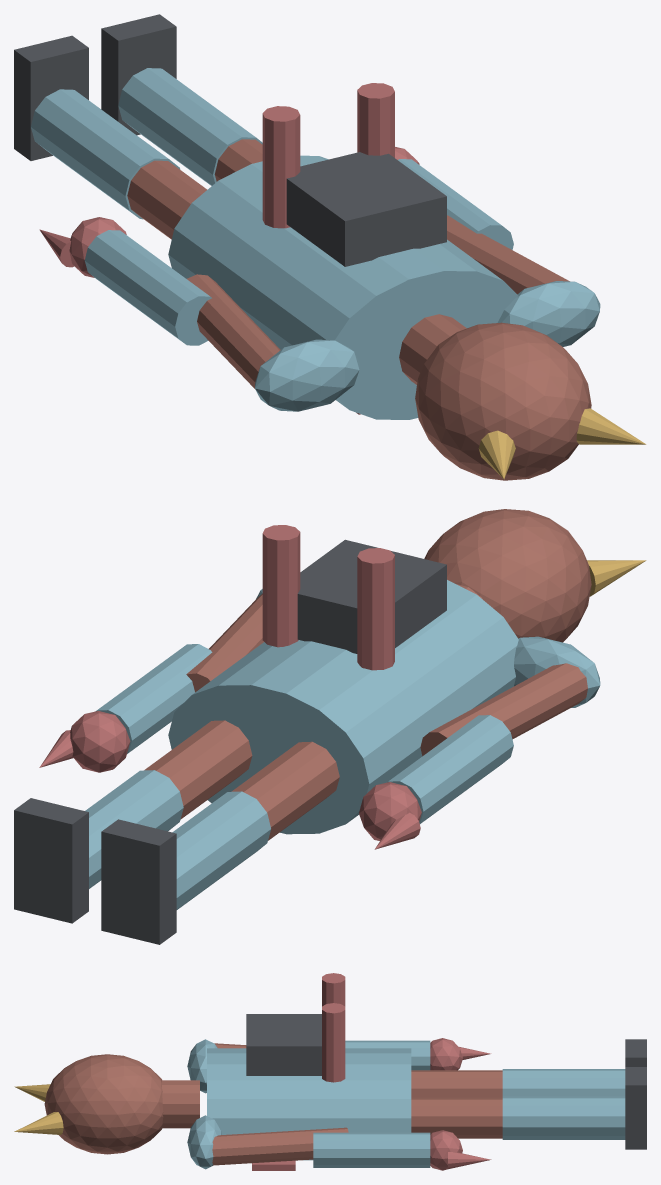
Rendered from SWN-013_corr_vantik.glb.
3 renders of one model, top to bottom at view 1: azimuth 30°, elevation 25°; view 2: azimuth 150°, elevation 25°; view 3: azimuth 270°, elevation 25°, orthographic. The views are drawn at different scales.
Parts seen in each view (by area): view 1: body_spine, head, back_thruster_pack, greave_-1, greave_1, forearm_gauntlet_-1, shoulder_plate_-1, boot_-1, boot_1, shoulder_plate_1, upper_arm_-1, aether_thruster_-1 (+9 smaller); view 2: body_spine, head, back_thruster_pack, boot_-1, boot_1, greave_-1, forearm_gauntlet_-1, thigh_1, thigh_-1, upper_arm_-1, forearm_gauntlet_1, greave_1 (+9 smaller); view 3: body_spine, head, greave_1, back_thruster_pack, forearm_gauntlet_1, thigh_1, greave_-1, upper_arm_1, thigh_-1, aether_thruster_1, boot_1, neck (+11 smaller).
Part boxes in pixels (x1,y1,x2,y2): body_spine: [168, 155, 518, 419]; head: [415, 322, 591, 480]; back_thruster_pack: [286, 152, 446, 266]; greave_-1: [31, 89, 180, 219]; greave_1: [118, 68, 262, 185]; forearm_gauntlet_-1: [84, 230, 211, 345]; shoulder_plate_-1: [255, 339, 359, 411]; boot_-1: [14, 35, 88, 160]; boot_1: [101, 14, 176, 135]; shoulder_plate_1: [497, 281, 600, 346]; upper_arm_-1: [187, 274, 280, 388]; aether_thruster_-1: [262, 106, 300, 228]; body_spine: [168, 580, 518, 834]; head: [424, 509, 591, 642]; back_thruster_pack: [297, 539, 446, 653]; boot_-1: [101, 819, 176, 944]; boot_1: [14, 798, 88, 923]; greave_-1: [172, 791, 270, 909]; forearm_gauntlet_-1: [387, 715, 513, 823]; thigh_1: [144, 720, 252, 819]; thigh_-1: [232, 741, 339, 840]; upper_arm_-1: [420, 663, 587, 756]; forearm_gauntlet_1: [95, 644, 212, 753]; greave_1: [85, 770, 183, 888]; body_spine: [207, 1048, 411, 1160]; head: [44, 1054, 163, 1154]; greave_1: [502, 1096, 625, 1139]; back_thruster_pack: [246, 1014, 321, 1075]; forearm_gauntlet_1: [313, 1132, 430, 1167]; thigh_1: [411, 1097, 502, 1138]; greave_-1: [502, 1069, 625, 1096]; upper_arm_1: [212, 1127, 348, 1165]; thigh_-1: [411, 1070, 502, 1097]; aether_thruster_1: [322, 1003, 345, 1082]; boot_1: [625, 1067, 646, 1149]; neck: [162, 1080, 199, 1128].
Size of the model in its own units: 0.99 by 0.6775 by 2.32.
